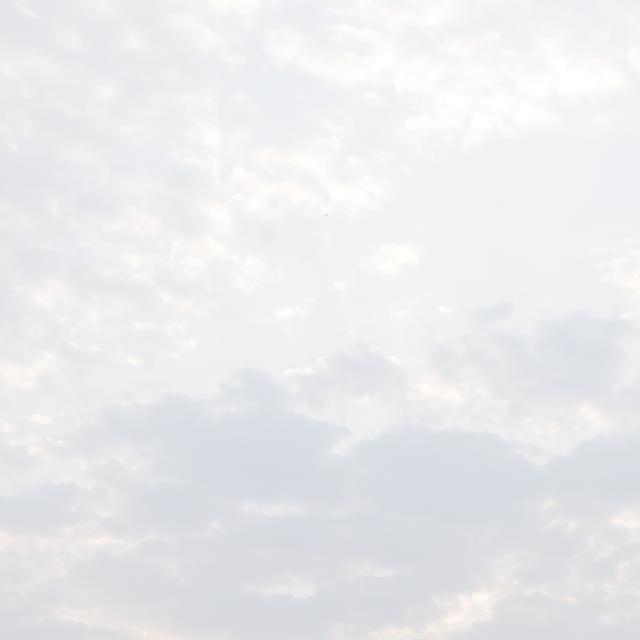Airaplan: (323, 212, 330, 219)
